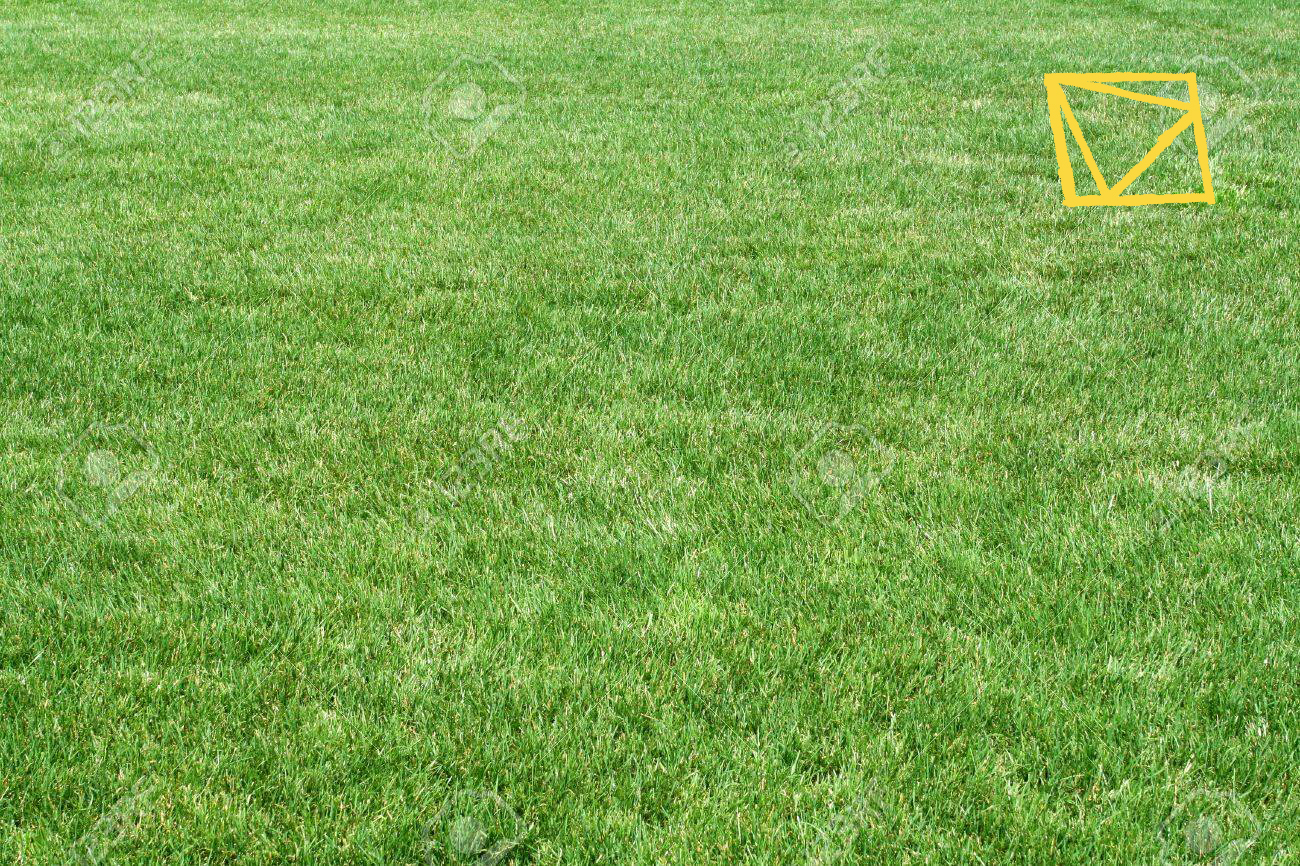marker: (1038, 65, 1223, 211)
